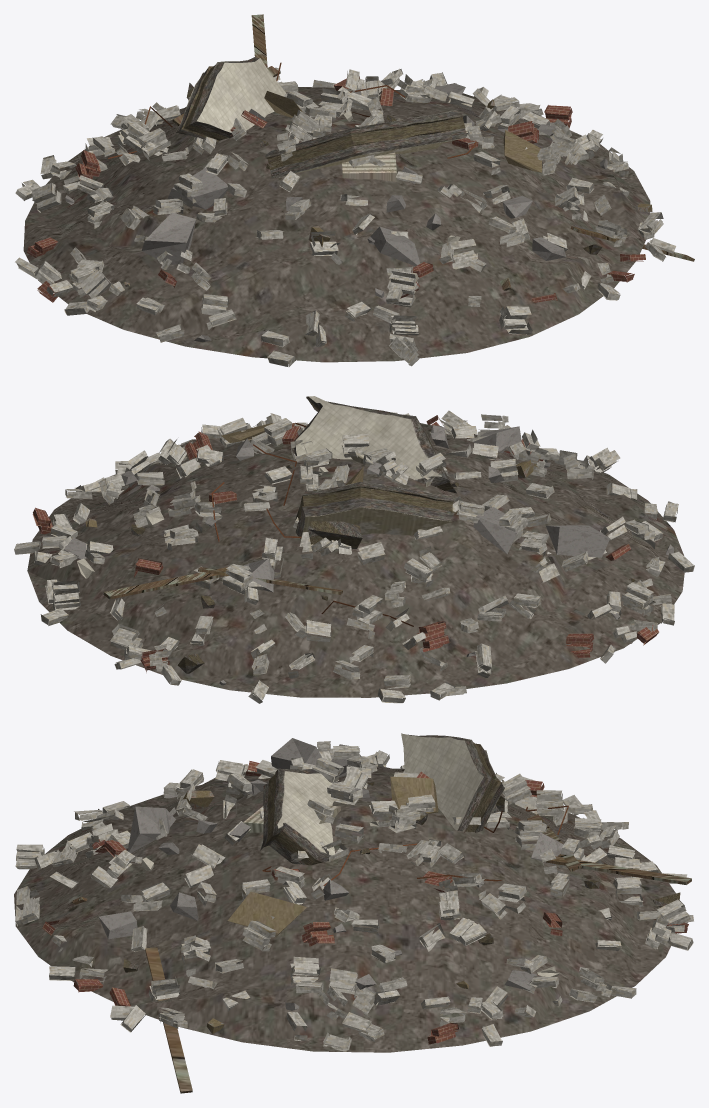
File: rubble_12.glb
3 renders of one model, top to bottom at view 1: azimuth 30°, elevation 25°; view 2: azimuth 150°, elevation 25°; view 3: azimuth 270°, elevation 25°, orthographic. The views are drawn at different scales.
Parts seen in each view (by area): view 1: rubble_12; view 2: rubble_12; view 3: rubble_12.
Boxes of the visible parts, <box> form: rubble_12: <box>15,14,694,366</box>; rubble_12: <box>14,396,694,703</box>; rubble_12: <box>14,733,693,1093</box>.
Size of the model in its own units: 6.75 by 2.01 by 6.69.
Materials: 1 (1 with a texture image).
